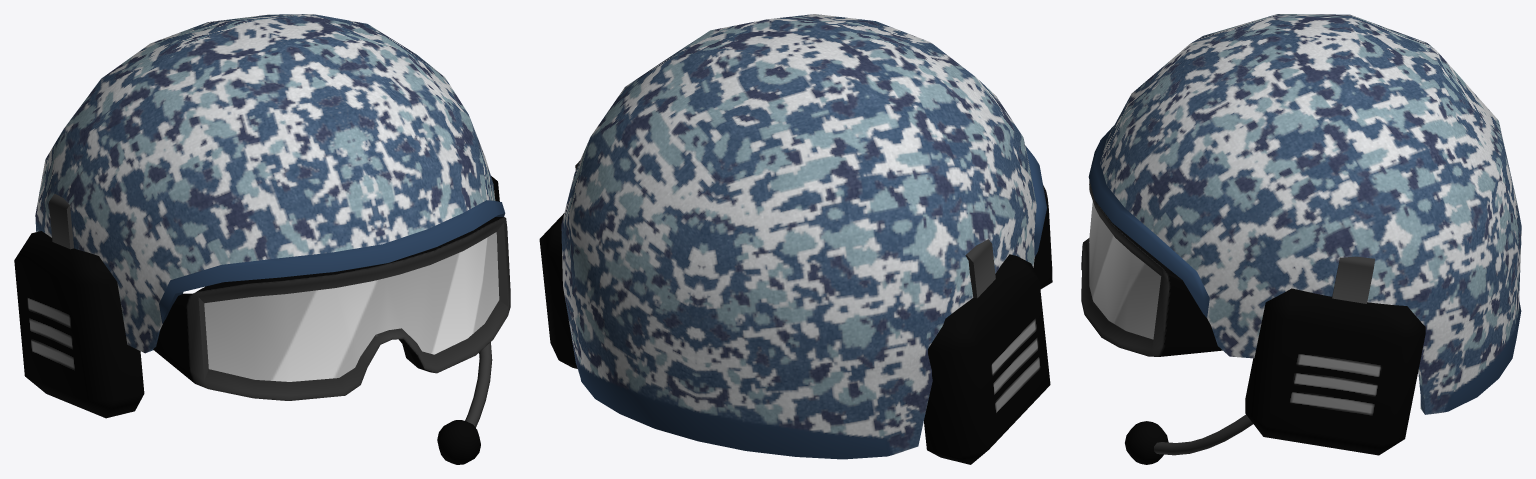
File: hat2.fbx
3 views of the same model, side by side, from view 1: azimuth 30°, elevation 25°; view 2: azimuth 150°, elevation 25°; view 3: azimuth 270°, elevation 25° (orthographic). The views are drawn at different scales.
Parts seen in each view (by area): view 1: hat2; view 2: hat2; view 3: hat2.
Part boxes in pixels (x1=…): hat2: x1=14, y1=14, x2=510, y2=464; hat2: x1=539, y1=14, x2=1052, y2=464; hat2: x1=1081, y1=14, x2=1521, y2=464.
Bounding box in the file's own units: 34.02 × 29.89 × 31.64.
